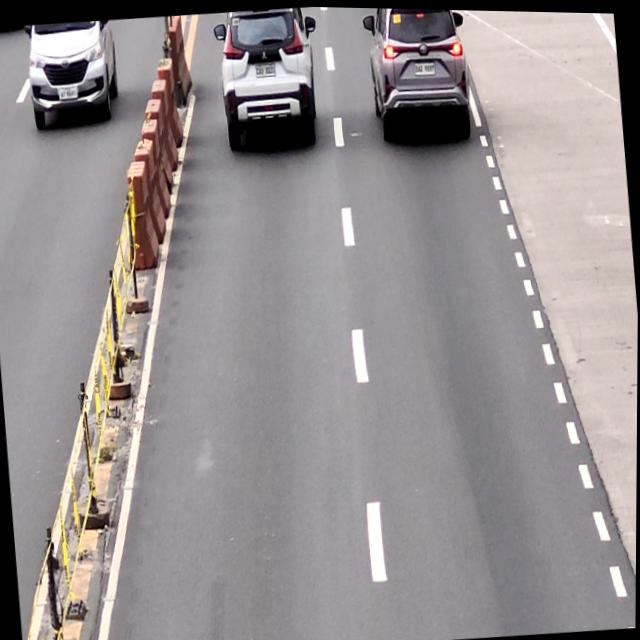Car: (209, 4, 326, 152), (361, 6, 473, 142)
License-Plate: (413, 58, 436, 76), (254, 60, 276, 78)
